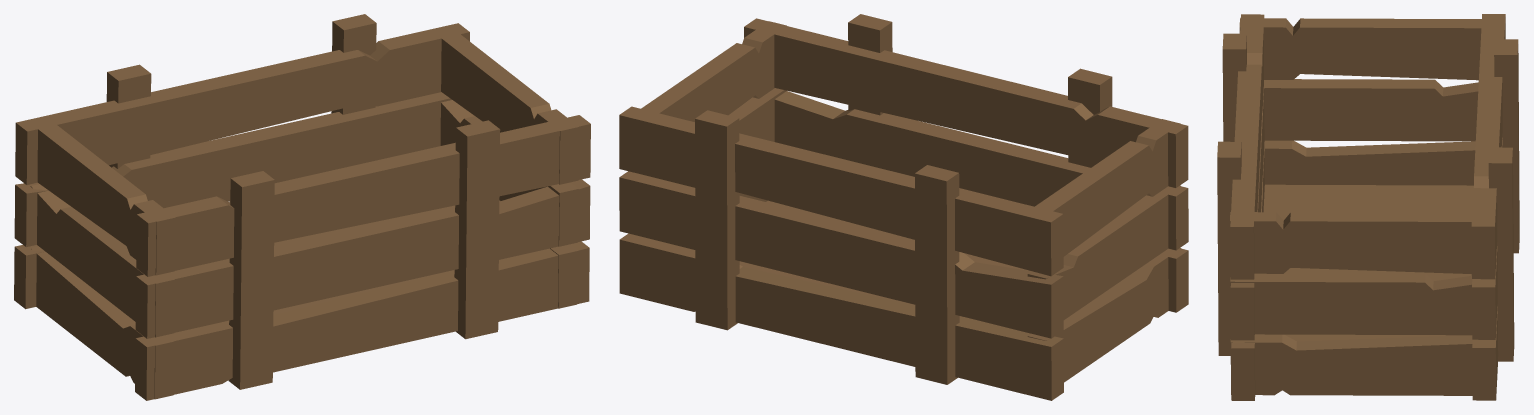
3 renders of one model, left to right at view 1: azimuth 30°, elevation 25°; view 2: azimuth 150°, elevation 25°; view 3: azimuth 270°, elevation 25°, orthographic.
Visible parts, largest first — view 1: Market Scene.021; view 2: Market Scene.021; view 3: Market Scene.021.
Part boxes in pixels (x1,y1,x2,y2): Market Scene.021: [14, 14, 590, 400]; Market Scene.021: [619, 14, 1188, 400]; Market Scene.021: [1217, 14, 1519, 400].
Bounding box in the file's own units: 463 × 207 × 281.
